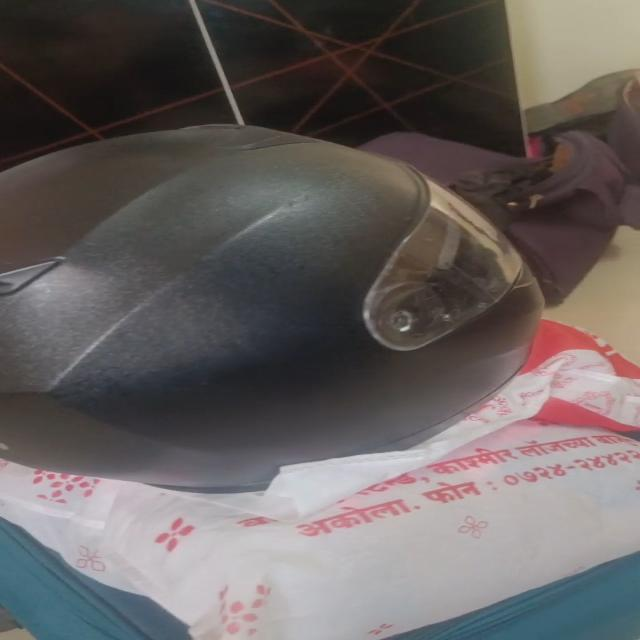Helmet: (0, 123, 547, 496)
